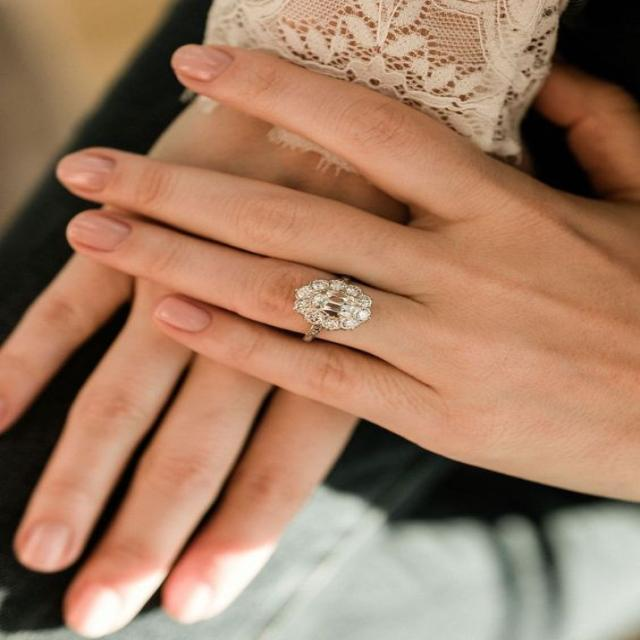Fingernail: (69, 585, 121, 639), (22, 521, 70, 571), (72, 212, 130, 251), (171, 44, 231, 81), (61, 153, 114, 189), (170, 580, 210, 625), (158, 297, 208, 331)
